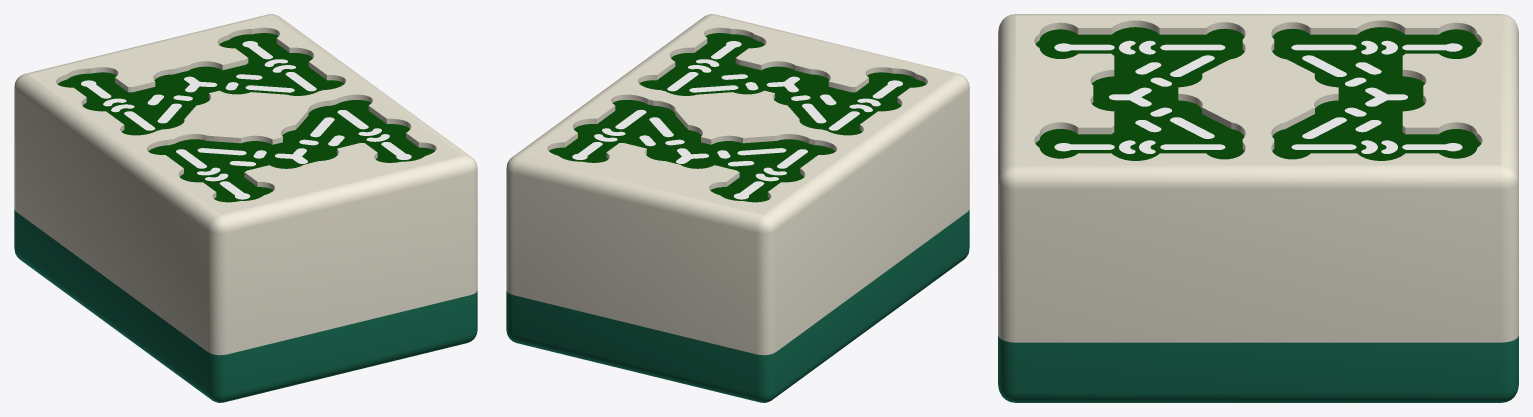
File: Sou8.glb
The picture shows the model from 3 angles, left to right: view 1: azimuth 30°, elevation 25°; view 2: azimuth 150°, elevation 25°; view 3: azimuth 270°, elevation 25°; orthographic projection. The views are drawn at different scales.
Visible parts, largest first — view 1: Sou8_body, Sou8_inset; view 2: Sou8_body, Sou8_inset; view 3: Sou8_body, Sou8_inset.
Boxes of the visible parts, x1,y1,x2,y2 form: Sou8_body: (14, 14, 477, 402); Sou8_inset: (57, 33, 434, 202); Sou8_body: (506, 14, 969, 402); Sou8_inset: (549, 33, 926, 202); Sou8_body: (998, 14, 1518, 402); Sou8_inset: (1035, 27, 1481, 160).
Size of the model in its own units: 0.024 by 0.016 by 0.032.
